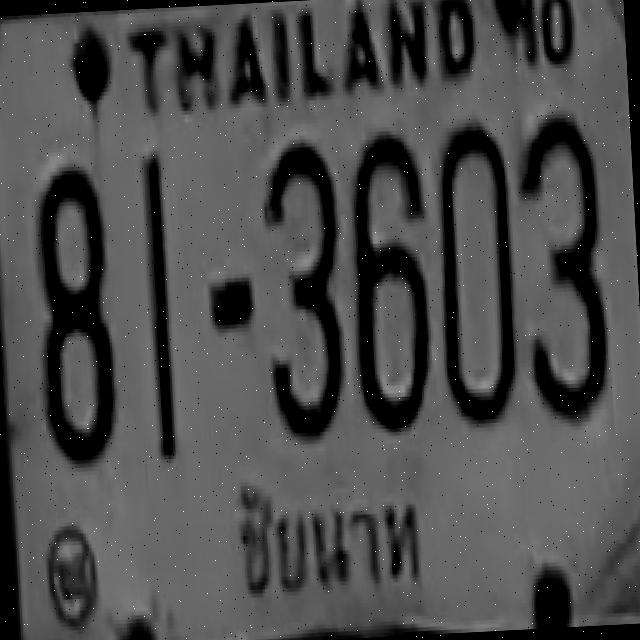0: (430, 117, 521, 426)
1: (138, 153, 178, 462)
3: (514, 108, 610, 420), (258, 138, 348, 438)
6: (344, 128, 434, 432)
8: (32, 164, 118, 468)
ChaiNat: (218, 471, 432, 610)
